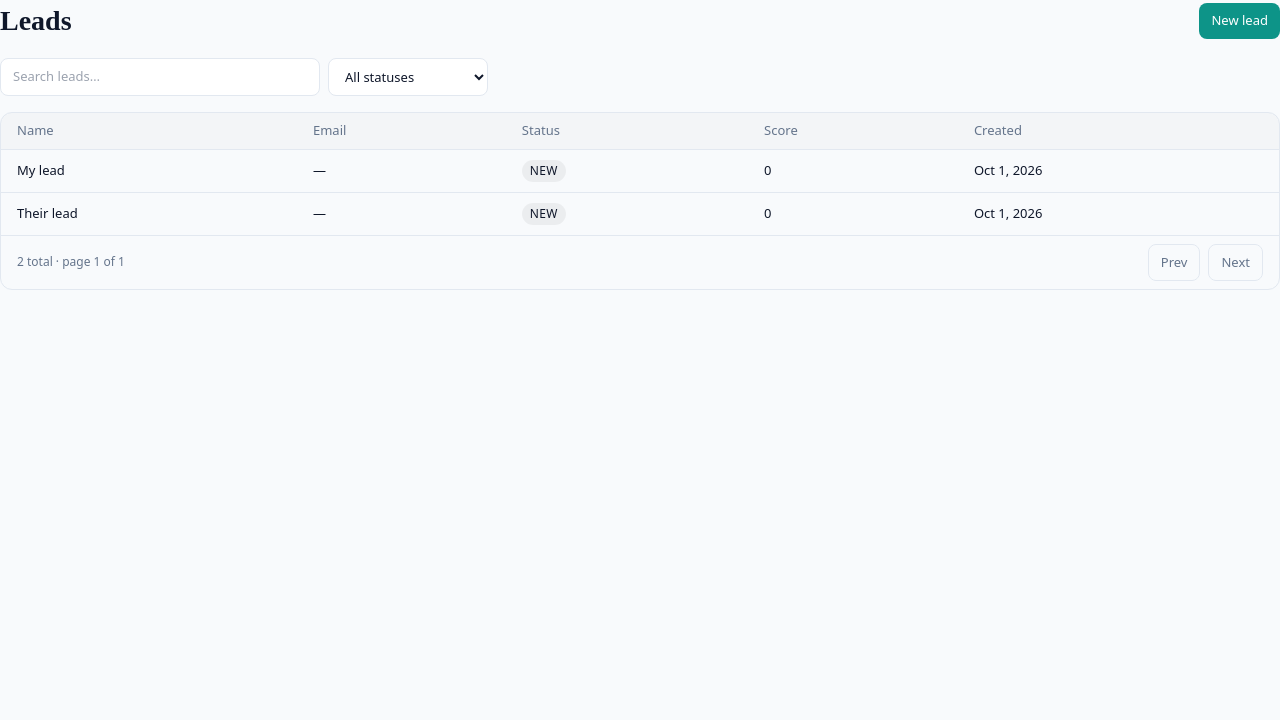
Test: lead edit dialog › is read-only for a member on someone else's record
What coordinates should you click on to do the following:
click the text "Their lead"
I would click on:
 (47, 213)
Its box is [1, 192, 297, 234].
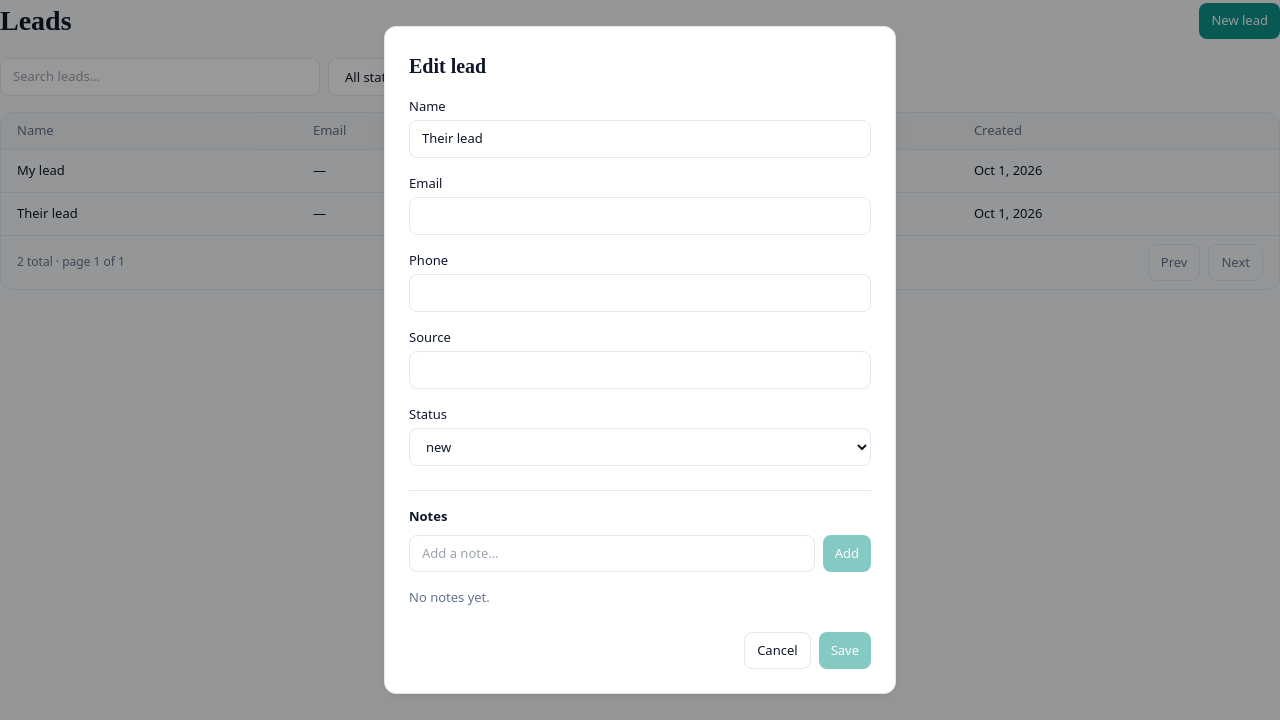
Expected: the button "Save" is disabled, [819, 632, 871, 669]
